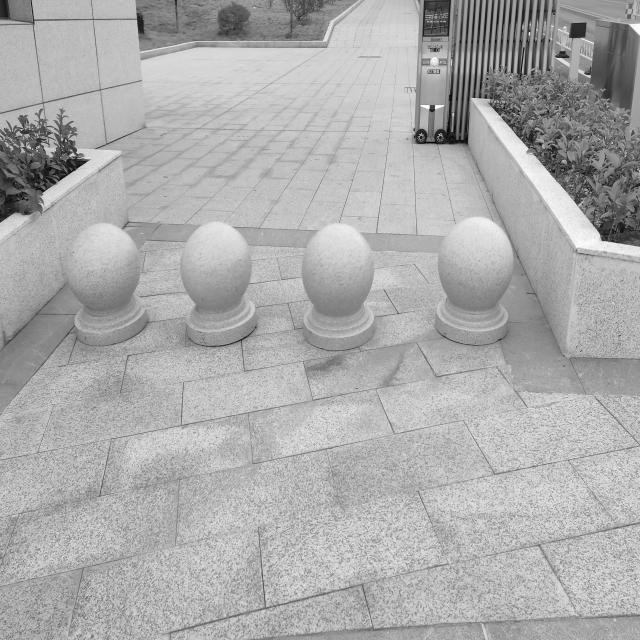spherical_roadblock: (427, 216, 517, 346), (298, 221, 379, 352), (64, 220, 148, 346), (179, 218, 257, 345)
